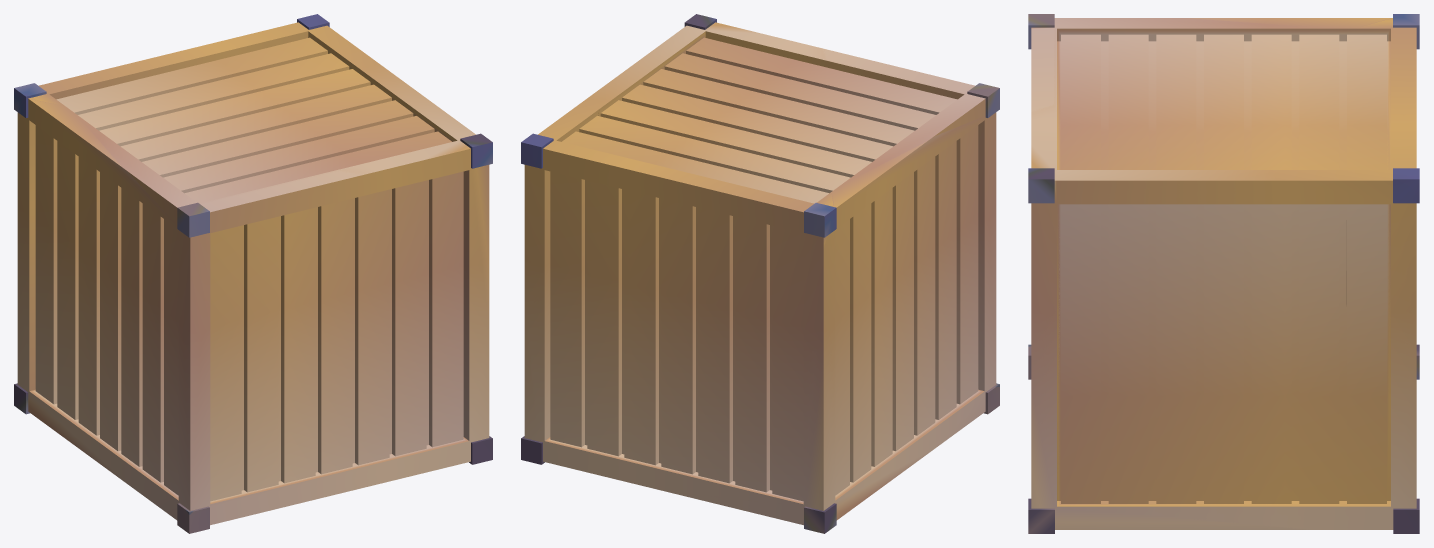
The model's file is LootCrate.fbx.
The picture shows the model from 3 angles, left to right: view 1: azimuth 30°, elevation 25°; view 2: azimuth 150°, elevation 25°; view 3: azimuth 270°, elevation 25°; orthographic projection. The views are drawn at different scales.
Parts seen in each view (by area): view 1: lootcrate1_fraction4, lootcrate1, lootcrate1_fraction1, lootcrate1_fraction6, lootcrate1_fraction5, lootcrate1_fraction2, lootcrate1_fraction3; view 2: lootcrate1, lootcrate1_fraction4, lootcrate1_fraction1, lootcrate1_fraction5, lootcrate1_fraction3, lootcrate1_fraction2, lootcrate1_fraction6; view 3: lootcrate1, lootcrate1_fraction1, lootcrate1_fraction6, lootcrate1_fraction5, lootcrate1_fraction3, lootcrate1_fraction4.
Boxes of the visible parts, left/top/right/bottom form: lootcrate1_fraction4: left=17, top=96, right=388, bottom=514; lootcrate1: left=14, top=19, right=492, bottom=530; lootcrate1_fraction1: left=94, top=325, right=492, bottom=533; lootcrate1_fraction6: left=370, top=85, right=492, bottom=347; lootcrate1_fraction5: left=14, top=61, right=422, bottom=205; lootcrate1_fraction2: left=14, top=225, right=131, bottom=486; lootcrate1_fraction3: left=83, top=14, right=375, bottom=77; lootcrate1: left=521, top=19, right=999, bottom=533; lootcrate1_fraction4: left=780, top=44, right=999, bottom=389; lootcrate1_fraction1: left=521, top=289, right=999, bottom=489; lootcrate1_fraction5: left=584, top=34, right=835, bottom=351; lootcrate1_fraction3: left=521, top=100, right=759, bottom=304; lootcrate1_fraction2: left=658, top=350, right=937, bottom=533; lootcrate1_fraction6: left=617, top=14, right=763, bottom=76; lootcrate1: left=1028, top=14, right=1419, bottom=529; lootcrate1_fraction1: left=1028, top=303, right=1419, bottom=533; lootcrate1_fraction6: left=1028, top=144, right=1345, bottom=384; lootcrate1_fraction5: left=1031, top=14, right=1419, bottom=233; lootcrate1_fraction3: left=1284, top=53, right=1419, bottom=346; lootcrate1_fraction4: left=1028, top=14, right=1393, bottom=346.
Bounding box in the file's own units: 2.44 × 2.44 × 2.44.
